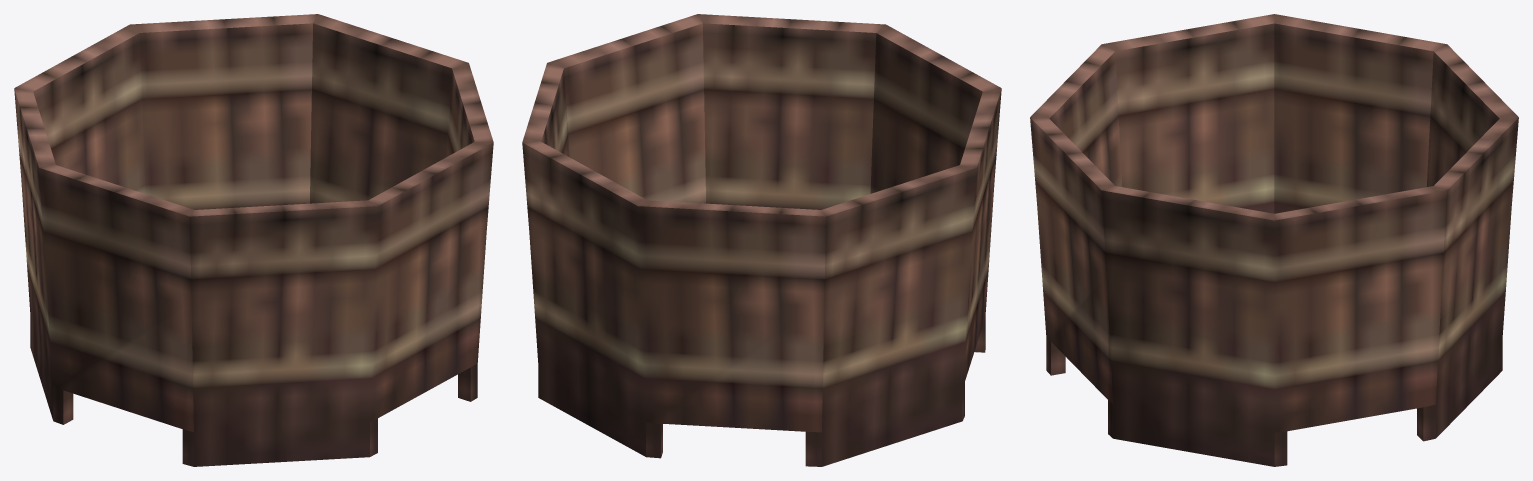
File: ob-b1-006-woodbarrel.glb
3 views of the same model, side by side, from view 1: azimuth 30°, elevation 25°; view 2: azimuth 150°, elevation 25°; view 3: azimuth 270°, elevation 25° (orthographic).
Visible parts, largest first — view 1: waterbarrel; view 2: waterbarrel; view 3: waterbarrel.
Part boxes in pixels (x1,y1,x2,y2): waterbarrel: [14, 14, 493, 466]; waterbarrel: [522, 14, 1001, 466]; waterbarrel: [1030, 14, 1518, 466].
Size of the model in its own units: 1.05 by 0.5975 by 1.05.
1 material, 1 textured.
